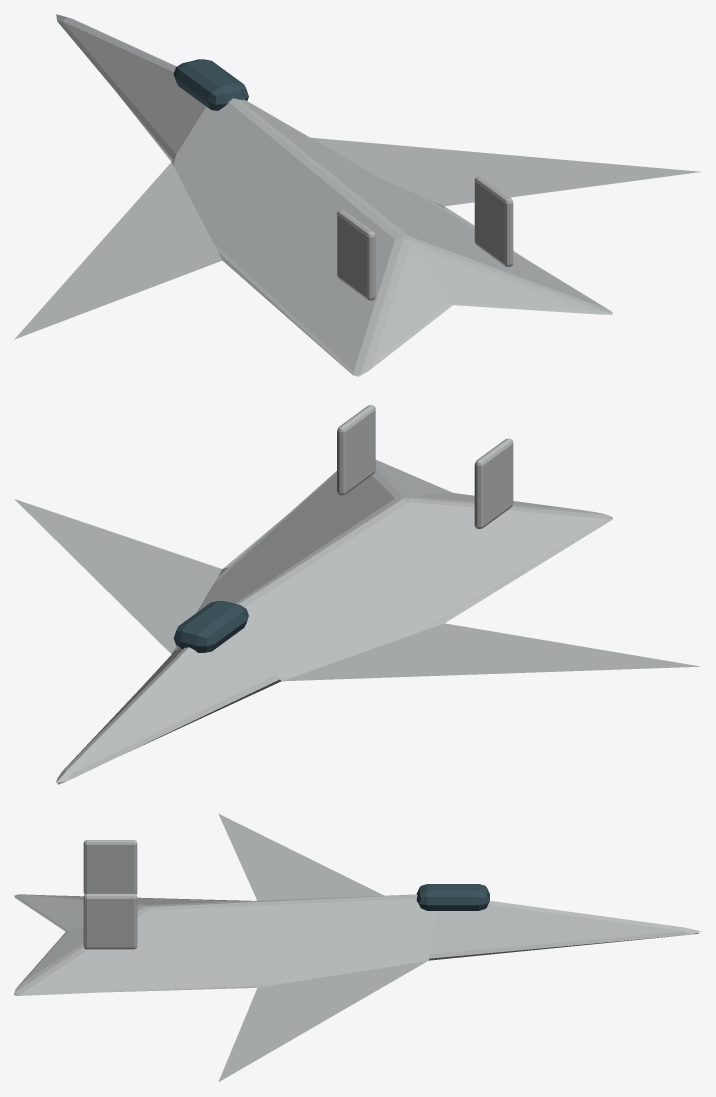
Rendered from mideast_f16i.glb.
3 views of the same model, one above another, from view 1: azimuth 30°, elevation 25°; view 2: azimuth 150°, elevation 25°; view 3: azimuth 270°, elevation 25° (orthographic). The views are drawn at different scales.
Visible parts, largest first — view 1: airframe, right_tail, left_tail, canopy; view 2: airframe, left_tail, right_tail, canopy; view 3: airframe, right_tail, left_tail, canopy.
Boxes of the visible parts, x1,y1,x2,y2 form: airframe: (14,14,701,376); right_tail: (474,176,513,266); left_tail: (337,210,375,300); canopy: (173,59,248,110); airframe: (14,460,700,784); left_tail: (474,438,513,528); right_tail: (337,405,375,495); canopy: (173,601,248,652); airframe: (14,813,701,1081); right_tail: (83,893,137,949); left_tail: (83,840,137,894); canopy: (416,884,489,910).
Size of the model in its own units: 5.59 by 0.7826 by 6.04.
